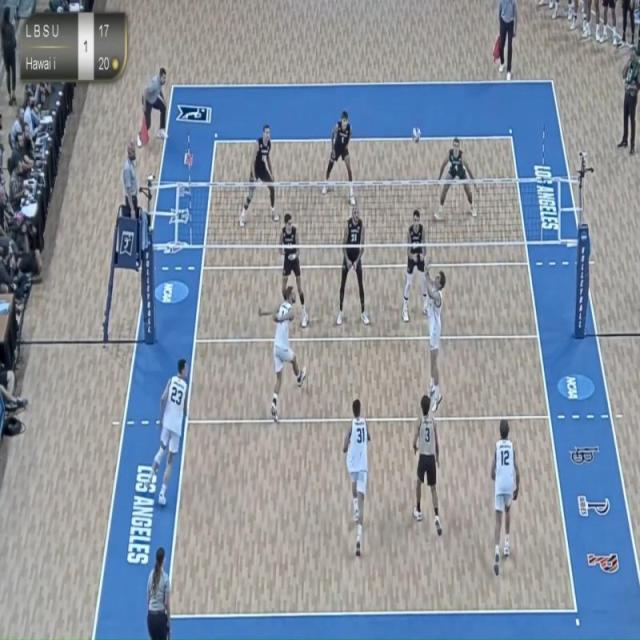volleyball: (409, 122, 424, 146)
